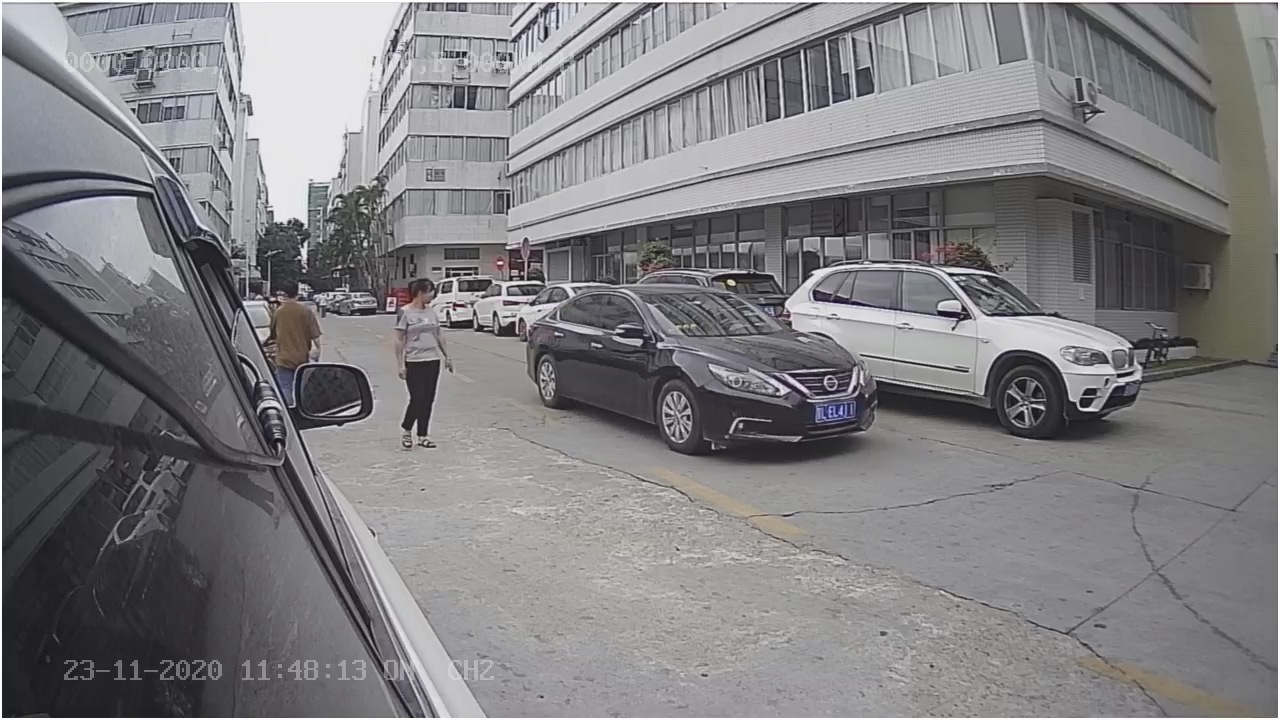person: (393, 276, 453, 453)
